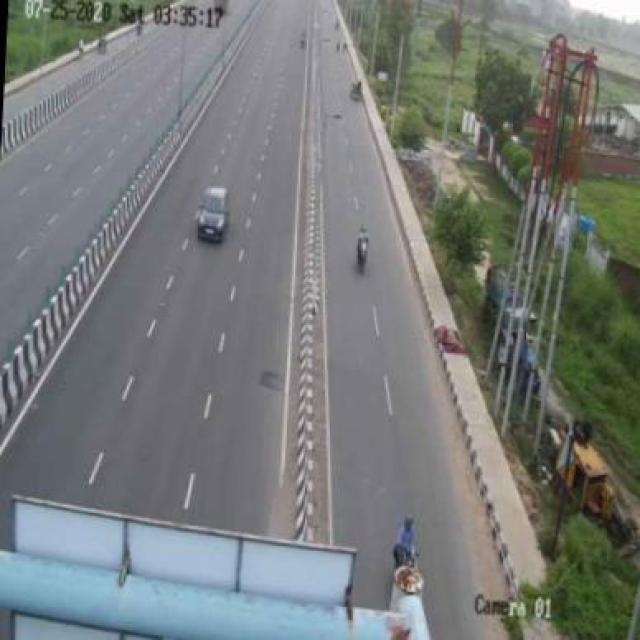car: (192, 170, 234, 246)
